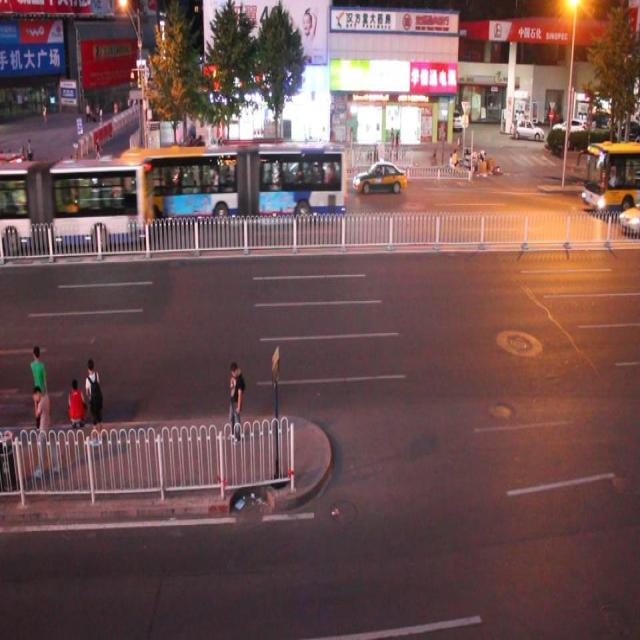car: (578, 138, 640, 215), (66, 190, 119, 233), (181, 157, 225, 200), (352, 162, 406, 196), (279, 155, 325, 188), (21, 188, 62, 220), (1, 169, 21, 213)
van: (119, 143, 345, 228), (0, 160, 154, 248), (1, 152, 31, 219)
